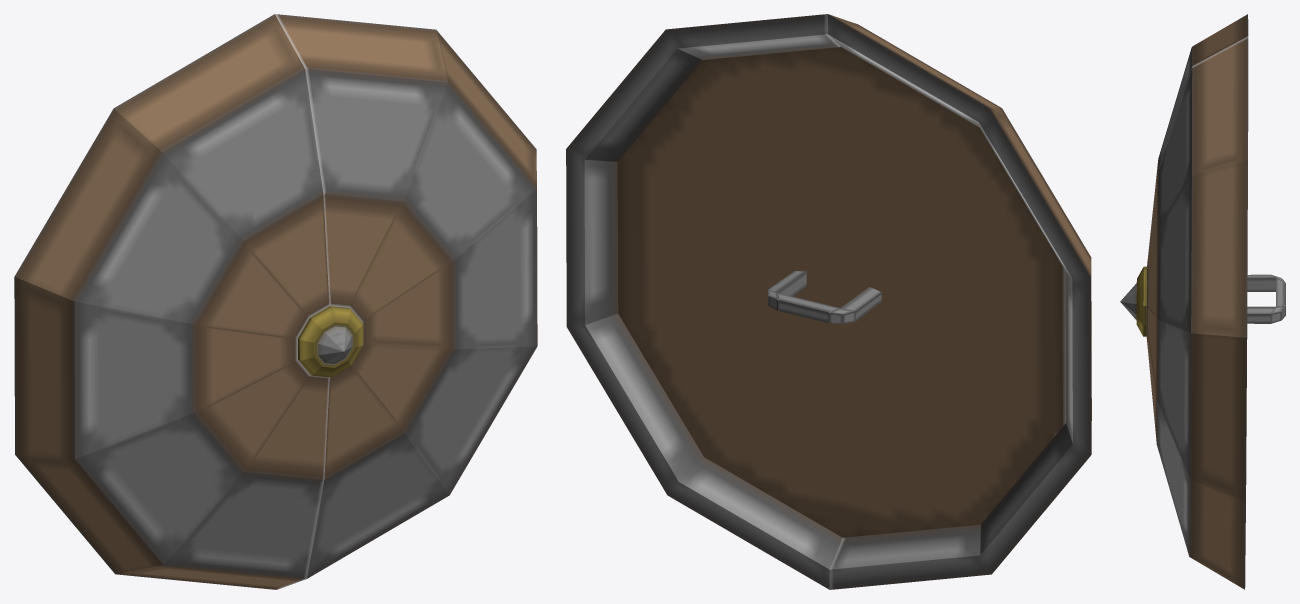
The model's file is Escudo_Textured.FBX.
3 renders of one model, left to right at view 1: azimuth 30°, elevation 25°; view 2: azimuth 150°, elevation 25°; view 3: azimuth 270°, elevation 25°, orthographic. The views are drawn at different scales.
Parts seen in each view (by area): view 1: Escudo; view 2: Escudo, Mango; view 3: Escudo, Mango.
Boxes of the visible parts, x1,y1,x2,y2 form: Escudo: (14,14,537,589); Escudo: (566,14,1091,589); Mango: (768,271,881,323); Escudo: (1120,14,1248,589); Mango: (1247,274,1285,323).
Bounding box in the file's own units: 546 × 574 × 162.
